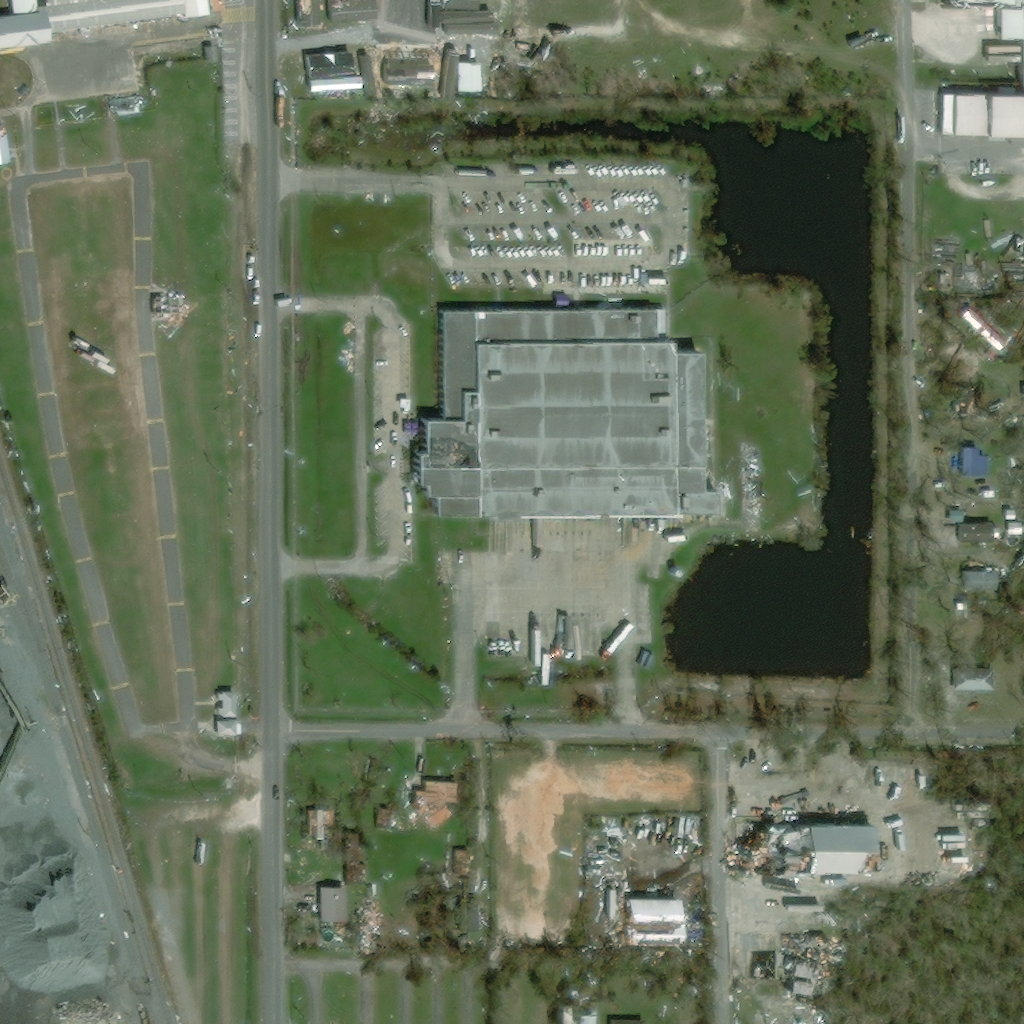destroyed: (595, 31, 695, 60), (773, 935, 828, 986), (406, 776, 456, 809), (717, 30, 768, 54), (150, 291, 182, 322), (525, 0, 550, 24), (322, 933, 332, 945), (210, 29, 219, 37)
major_damage: (409, 285, 717, 519), (730, 816, 875, 876), (603, 883, 677, 937), (385, 58, 435, 91), (305, 51, 363, 79), (343, 833, 370, 886), (317, 886, 347, 931), (0, 123, 21, 165), (456, 62, 480, 94), (300, 0, 326, 28), (114, 95, 146, 114)
minor_damage: (939, 0, 1023, 89), (961, 310, 1008, 369), (946, 511, 1000, 544), (438, 2, 492, 23), (329, 0, 375, 23), (957, 670, 999, 692), (439, 51, 453, 102), (441, 23, 494, 36), (375, 807, 392, 830), (306, 810, 319, 839), (203, 47, 217, 64)
no_damage: (0, 0, 208, 49), (939, 93, 1023, 137), (960, 447, 987, 477), (214, 720, 243, 741), (218, 690, 236, 717), (574, 1005, 594, 1023), (11, 0, 37, 13), (609, 1018, 645, 1023), (1004, 511, 1016, 520), (200, 723, 209, 732)
unclassified: (654, 0, 666, 9), (703, 0, 716, 6)
